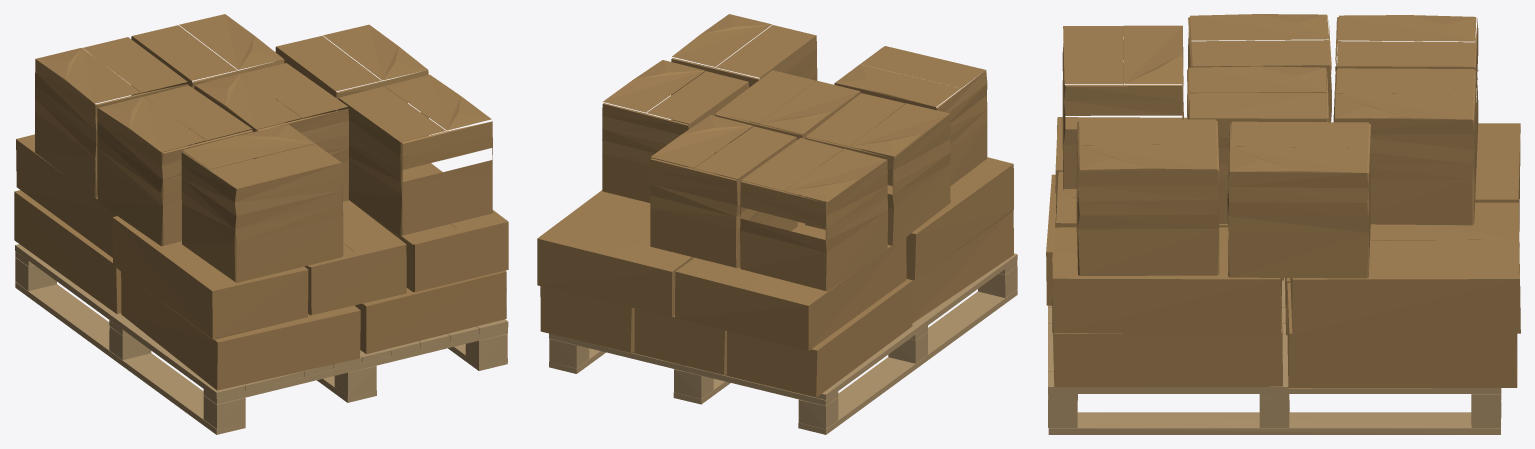
File: pallet-caixas-a.glb
The picture shows the model from 3 angles, left to right: view 1: azimuth 30°, elevation 25°; view 2: azimuth 150°, elevation 25°; view 3: azimuth 270°, elevation 25°; orthographic projection. The views are drawn at different scales.
Parts seen in each view (by area): view 1: geometry_0; view 2: geometry_0; view 3: geometry_0.
Boxes of the visible parts, x1,y1,x2,y2 form: geometry_0: (14,14,508,434); geometry_0: (537,14,1017,434); geometry_0: (1046,14,1520,434).
Size of the model in its own units: 1.02 by 0.7753 by 1.26.
